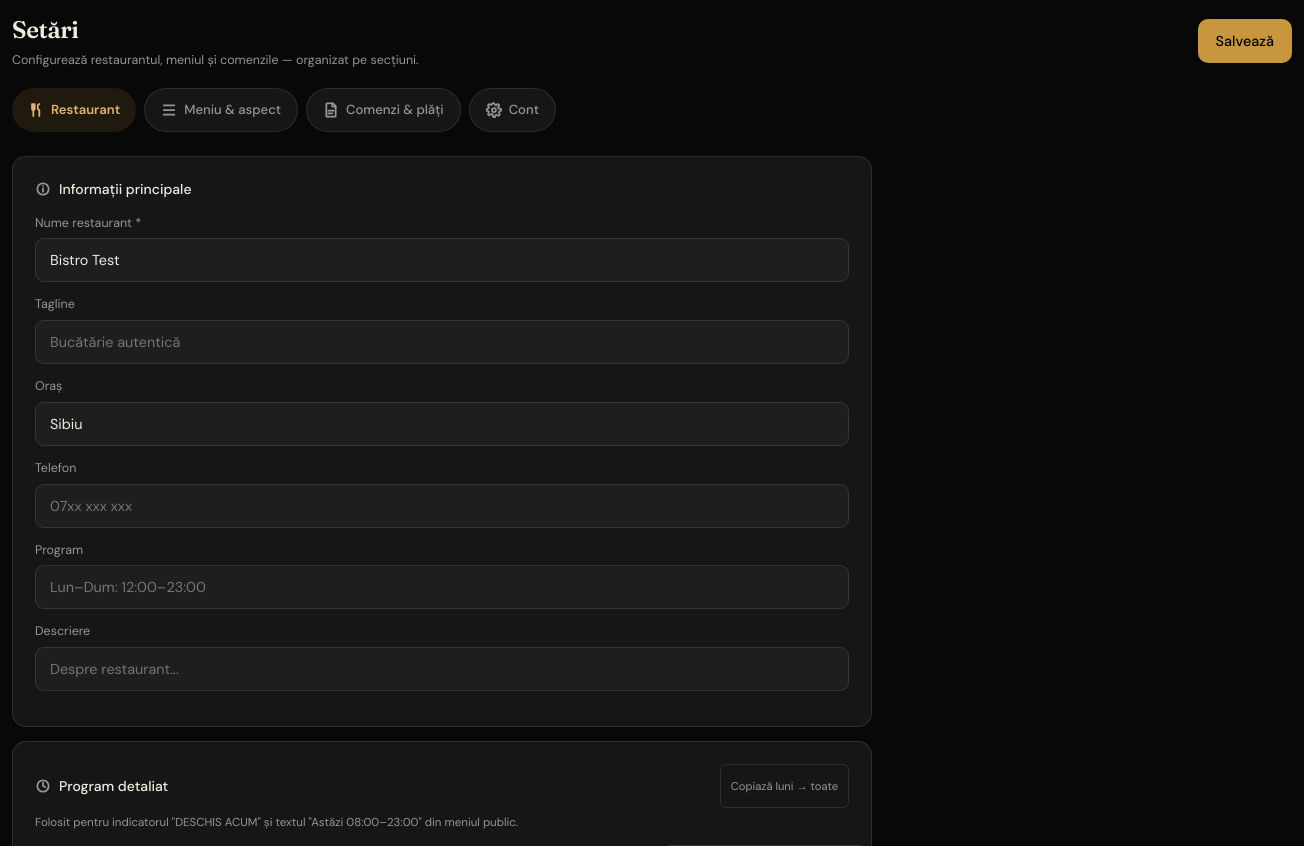
Test: SettingsTab — nota flipbook despre comanda din meniu › PS5c: control pozitiv — pe Meniu + Comenzi nota apare
Click the tab "Meniu & aspect".
click(221, 110)  # box x1=144 y1=88 x2=298 y2=132
(page scrolled)
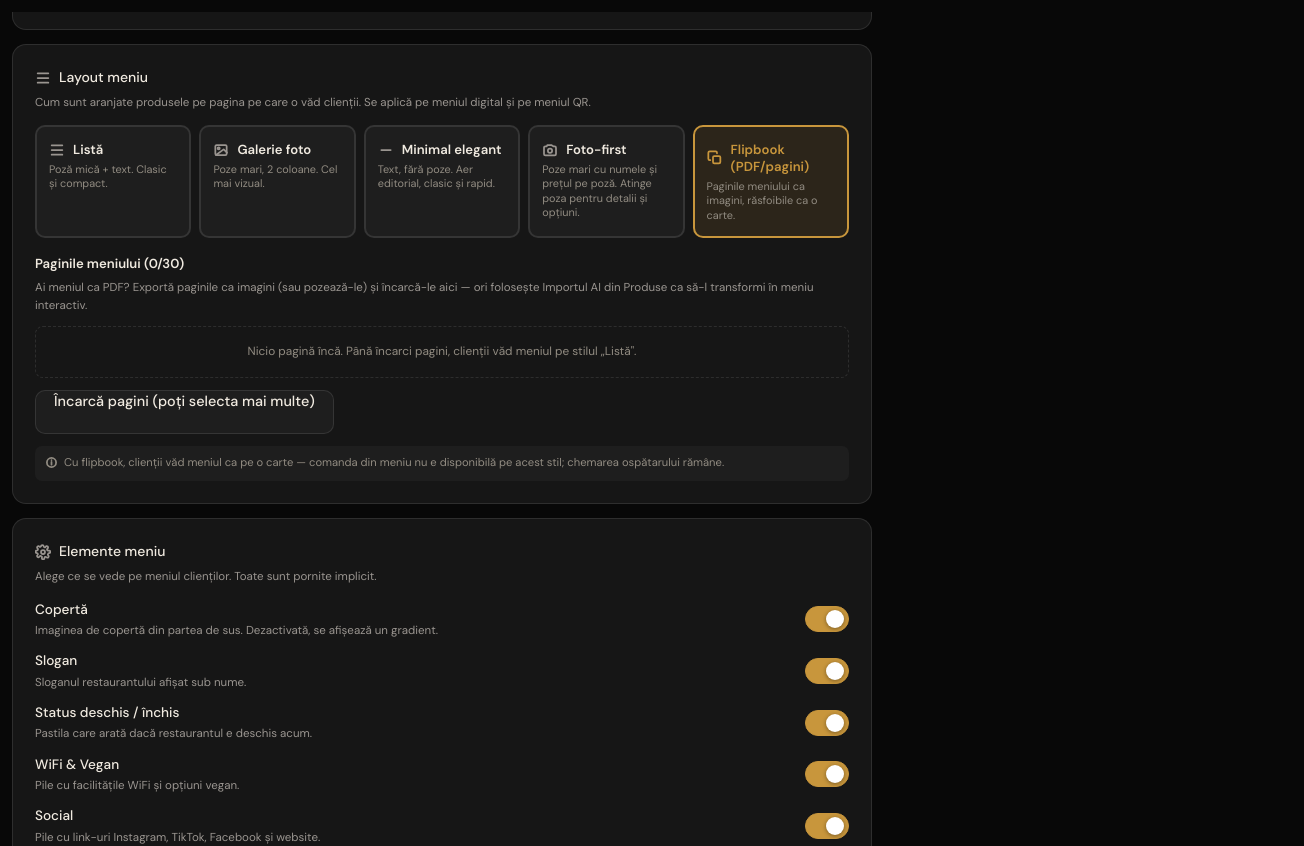
Check: the text "Paginile meniului (0/30)" is shown, box x1=35 y1=255 x2=184 y2=272
Check: the text "comanda din meniu nu e disponibilă pe acest stil" is shown, box x1=64 y1=455 x2=724 y2=469
